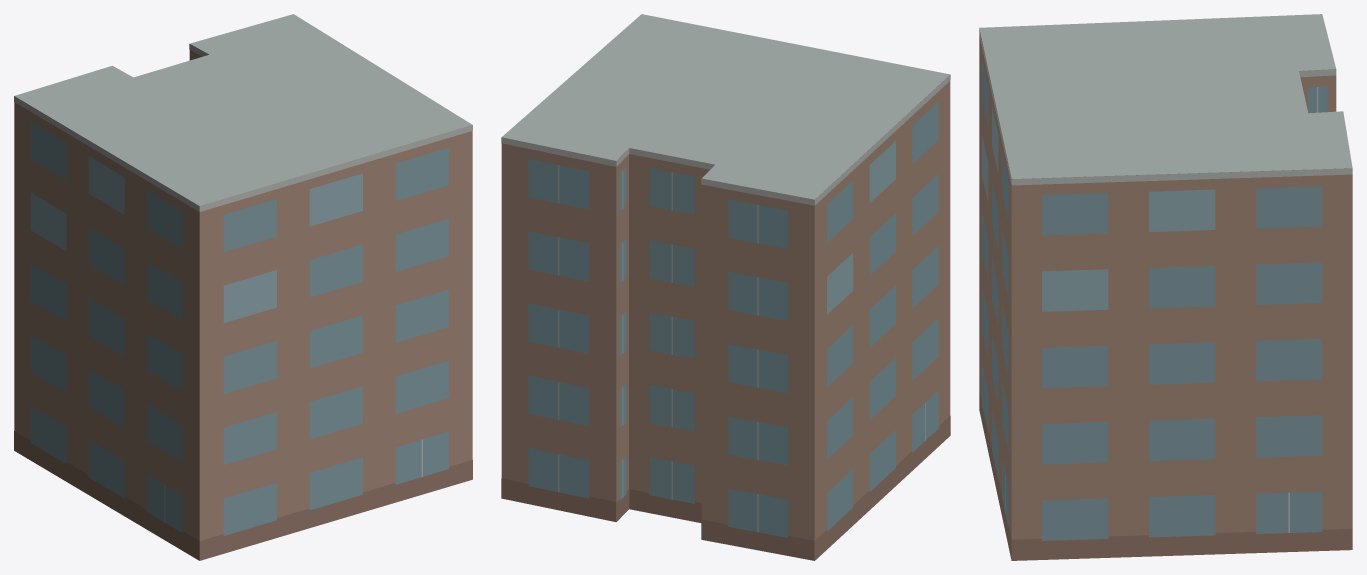
Rendered from survey-upis-32608074.glb.
3 renders of one model, left to right at view 1: azimuth 30°, elevation 25°; view 2: azimuth 150°, elevation 25°; view 3: azimuth 270°, elevation 25°, orthographic. The views are drawn at different scales.
Parts seen in each view (by area): view 1: survey-upis-32608074.tmp; view 2: survey-upis-32608074.tmp; view 3: survey-upis-32608074.tmp.
Boxes of the visible parts, left/top/right/bottom form: survey-upis-32608074.tmp: left=14, top=14, right=472, bottom=560; survey-upis-32608074.tmp: left=501, top=14, right=950, bottom=560; survey-upis-32608074.tmp: left=979, top=14, right=1352, bottom=560.
Bounding box in the file's own units: 13.55 × 14.6 × 12.95.
